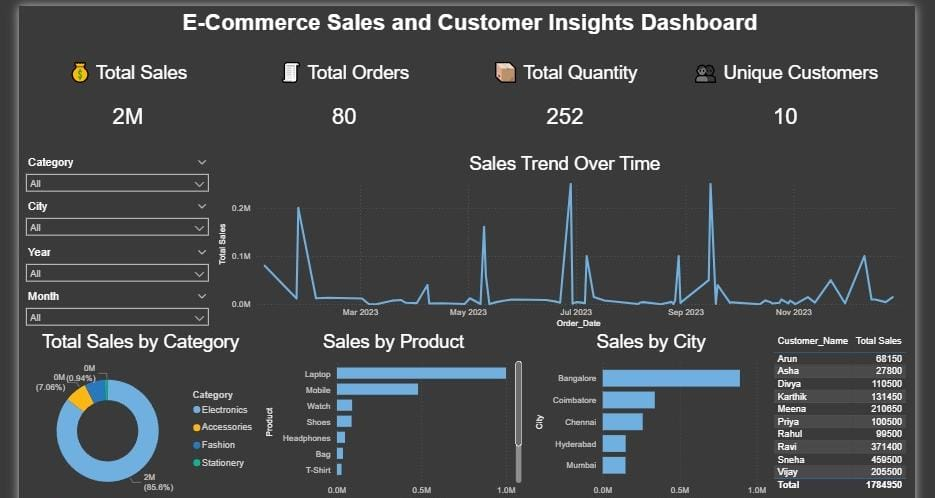

What the dashboard file says about the page in this screenshot:
{"tool":"powerbi","page":{"name":"Page 1","canvas":[1280,720],"ordinal":0},"visuals":[{"type":"card","title":"💰 Total Sales","fields":{"Values":["Ecommerce_Data.Total Sales"]},"box":[0,75.1,311.8,131.8],"z":0},{"type":"donutChart","fields":{"Category":["Ecommerce_Data.Category"],"Y":["Ecommerce_Data.Total Sales"]},"box":[0,464.9,347.2,255.1],"z":1000},{"type":"lineChart","title":"Sales Trend Over Time","fields":{"Y":["Ecommerce_Data.Total Sales"],"Category":["Ecommerce_Data.Order_Date"]},"box":[280.6,209.8,999.2,255.1],"z":2000},{"type":"clusteredBarChart","title":"Sales by City","fields":{"Category":["Ecommerce_Data.City"],"Y":["Ecommerce_Data.Total Sales"]},"box":[732.8,464.9,340.2,255.1],"z":4000},{"type":"tableEx","fields":{"Values":["Ecommerce_Data.Customer_Name","Ecommerce_Data.Total Sales"]},"box":[1072.9,464.9,206.9,255.1],"z":5000},{"type":"slicer","fields":{"Values":["Ecommerce_Data.Category"]},"box":[0,209.8,280.6,63.8],"z":6000},{"type":"slicer","fields":{"Values":["Ecommerce_Data.City"]},"box":[0,273.5,280.6,65.2],"z":7000},{"type":"textbox","box":[0,0,1280,55],"z":8000},{"type":"card","title":"🧾 Total Orders","fields":{"Values":["Ecommerce_Data.Total Orders"]},"box":[311.7,75,306.7,131.7],"z":9000},{"type":"card","title":"👥 Unique Customers","fields":{"Values":["Ecommerce_Data.Unique_Customer"]},"box":[941.7,75,306.7,131.7],"z":10000},{"type":"card","title":"📦 Total Quantity","fields":{"Values":["Ecommerce_Data.Total Quantity"]},"box":[618,75.1,323.1,131.8],"z":11000},{"type":"slicer","fields":{"Values":["Ecommerce_Data.Order_Date.Variation.Date Hierarchy.Year"]},"box":[0,338.7,280.6,62.4],"z":12000},{"type":"slicer","fields":{"Values":["Ecommerce_Data.Order_Date.Variation.Date Hierarchy.Month"]},"box":[0,401.1,280.6,63.8],"z":13000},{"type":"clusteredBarChart","title":"Sales by Product","fields":{"Y":["Ecommerce_Data.Total Sales"],"Category":["Ecommerce_Data.Product"]},"box":[347.2,464.9,375.6,255.1],"z":13001}]}

Visuals, with their boxes on the page's 1280x720 design canvas (x1, y1, x2, y2). These are canvas units, not pixel positions in the 935x498 screenshot, which may show the page scaled, cropped or inside an application window:
"💰 Total Sales" card: bbox=[0, 75, 312, 207]
donutChart - Ecommerce_Data.Category x Ecommerce_Data.Total Sales: bbox=[0, 465, 347, 720]
"Sales Trend Over Time" lineChart: bbox=[281, 210, 1280, 465]
"Sales by City" clusteredBarChart: bbox=[733, 465, 1073, 720]
tableEx - Ecommerce_Data.Customer_Name x Ecommerce_Data.Total Sales: bbox=[1073, 465, 1280, 720]
slicer - Ecommerce_Data.Category: bbox=[0, 210, 281, 274]
slicer - Ecommerce_Data.City: bbox=[0, 274, 281, 339]
textbox: bbox=[0, 0, 1280, 55]
"🧾 Total Orders" card: bbox=[312, 75, 618, 207]
"👥 Unique Customers" card: bbox=[942, 75, 1248, 207]
"📦 Total Quantity" card: bbox=[618, 75, 941, 207]
slicer - Ecommerce_Data.Order_Date.Variation.Date Hierarchy.Year: bbox=[0, 339, 281, 401]
slicer - Ecommerce_Data.Order_Date.Variation.Date Hierarchy.Month: bbox=[0, 401, 281, 465]
"Sales by Product" clusteredBarChart: bbox=[347, 465, 723, 720]
